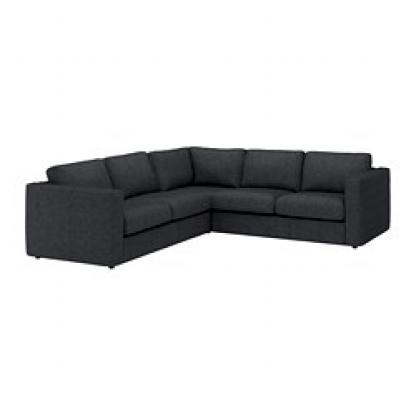Sofa: (18, 122, 398, 276)
